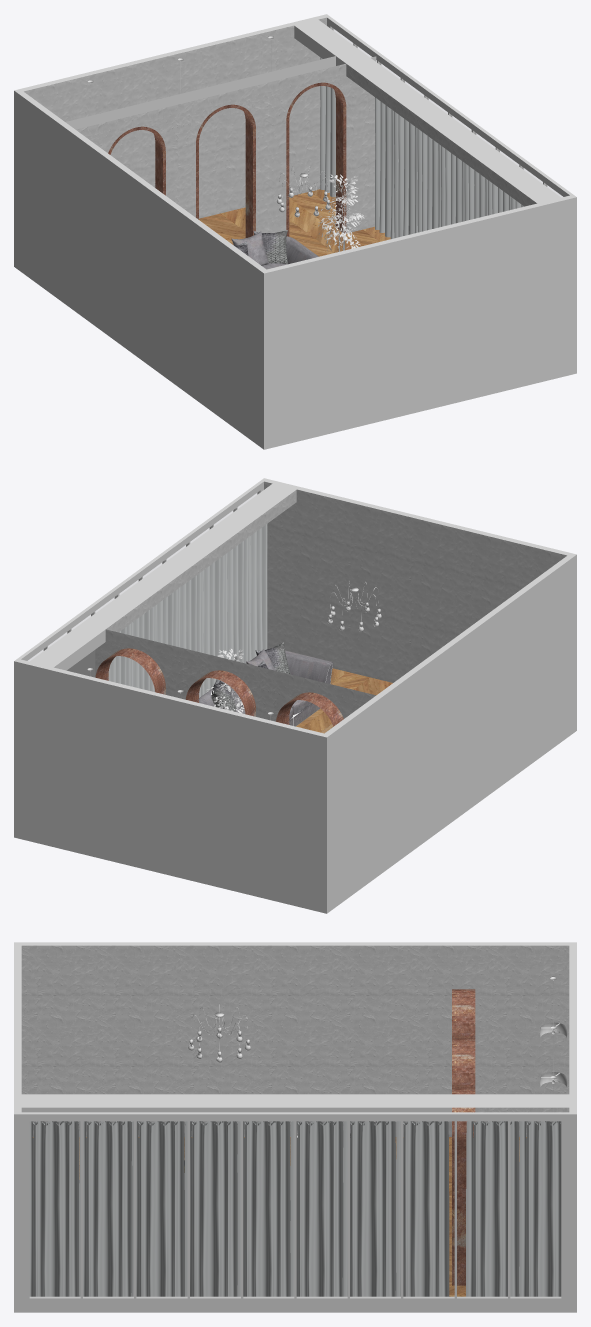
File: sample_interior.glb
3 renders of one model, top to bottom at view 1: azimuth 30°, elevation 25°; view 2: azimuth 150°, elevation 25°; view 3: azimuth 270°, elevation 25°, orthographic. The views are drawn at different scales.
Parts seen in each view (by area): view 1: Geom3D_pater, Geom3D (×10), Geom3D_mebel, Geom3D_ (×2), Geom3D_pol, Geom3D_Potted Tree 60-30, Geom3D_Pendant 81-14; view 2: Geom3D_pater, Geom3D (×9), Geom3D_mebel, Geom3D_pol, Geom3D_, Geom3D_Potted Tree 60-30, Geom3D_Pendant 81-14; view 3: Geom3D (×6), Geom3D_, Geom3D_mebel, Geom3D_pater, Geom3D_pol, Geom3D_Pendant 81-14.
Boxes of the visible parts, left/top/right/bottom form: Geom3D_pater: left=14, top=14, right=576, bottom=443; Geom3D (×10): left=24, top=17, right=536, bottom=265; Geom3D_mebel: left=294, top=19, right=560, bottom=203; Geom3D_ (×2): left=65, top=16, right=572, bottom=196; Geom3D_pol: left=14, top=261, right=576, bottom=449; Geom3D_Potted Tree 60-30: left=318, top=174, right=364, bottom=251; Geom3D_Pendant 81-14: left=276, top=166, right=330, bottom=217; Geom3D_pater: left=14, top=478, right=576, bottom=907; Geom3D (×9): left=95, top=481, right=566, bottom=732; Geom3D_mebel: left=30, top=483, right=296, bottom=677; Geom3D_pol: left=14, top=725, right=576, bottom=913; Geom3D_: left=18, top=480, right=263, bottom=660; Geom3D_Potted Tree 60-30: left=206, top=649, right=244, bottom=713; Geom3D_Pendant 81-14: left=327, top=580, right=381, bottom=631; Geom3D (×6): left=21, top=945, right=569, bottom=1296; Geom3D_: left=21, top=1112, right=569, bottom=1305; Geom3D_mebel: left=21, top=1094, right=569, bottom=1121; Geom3D_pater: left=14, top=942, right=576, bottom=1305; Geom3D_pol: left=14, top=1305, right=576, bottom=1312; Geom3D_Pendant 81-14: left=188, top=1004, right=250, bottom=1062.
Size of the model in its own units: 5.2 by 2.81 by 7.2.
Materials: 13 (10 with a texture image).
